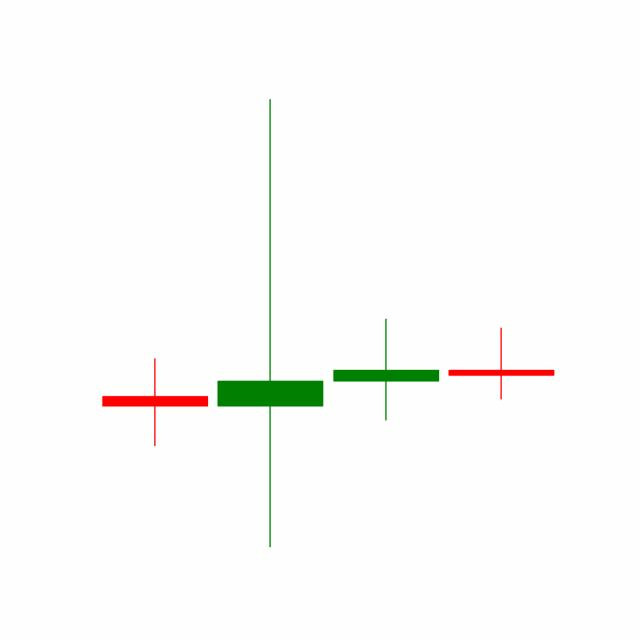Spinning Top: (328, 317, 444, 422)
